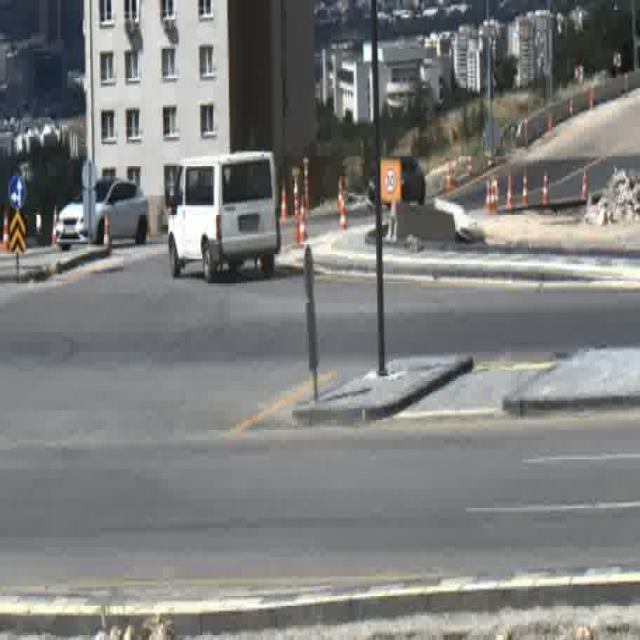Car: (166, 153, 278, 274), (56, 181, 147, 253), (367, 160, 424, 210)
